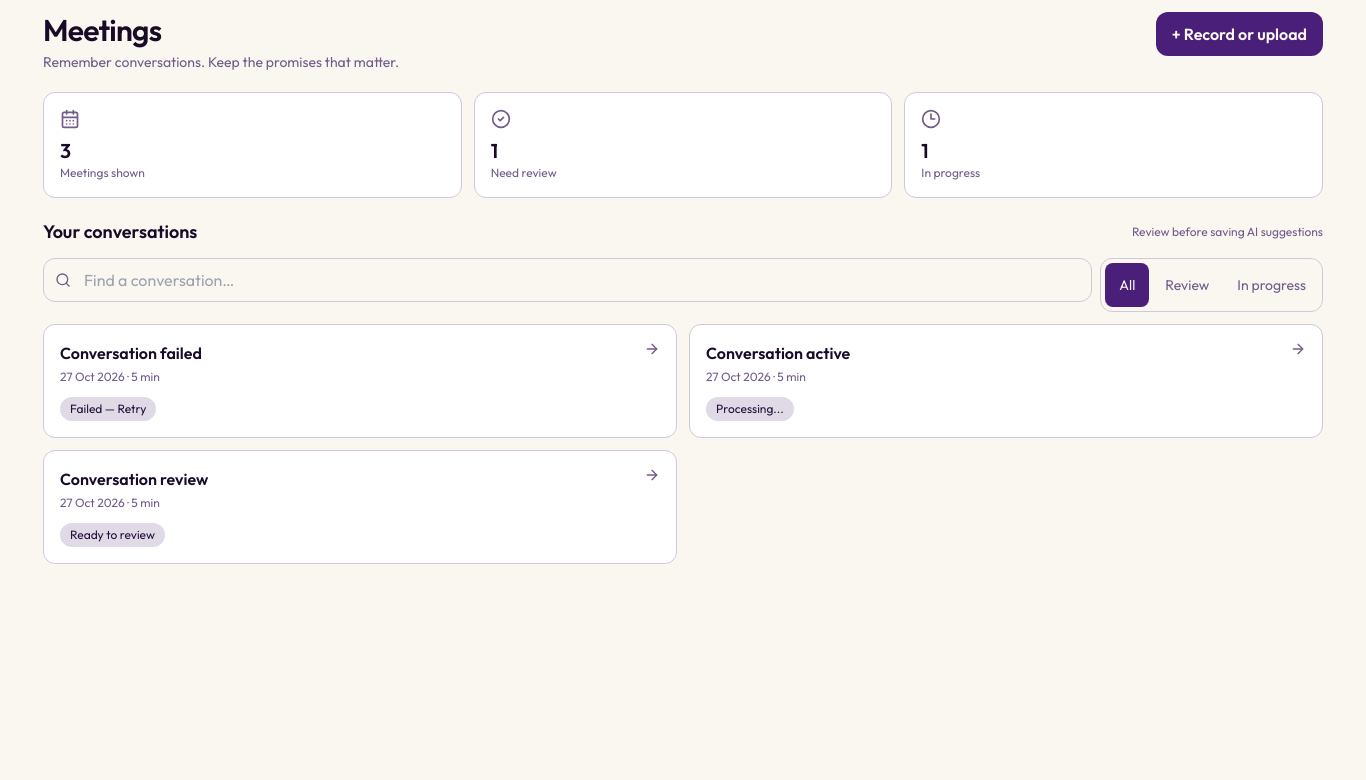
Scenario: meeting overview truth and filtering › separates failed recordings from active processing and finds reviewable meetings
The width and height of the screenshot is (1366, 780).
Click the button "In progress".
click(1272, 285)  # box [1225, 263, 1318, 307]
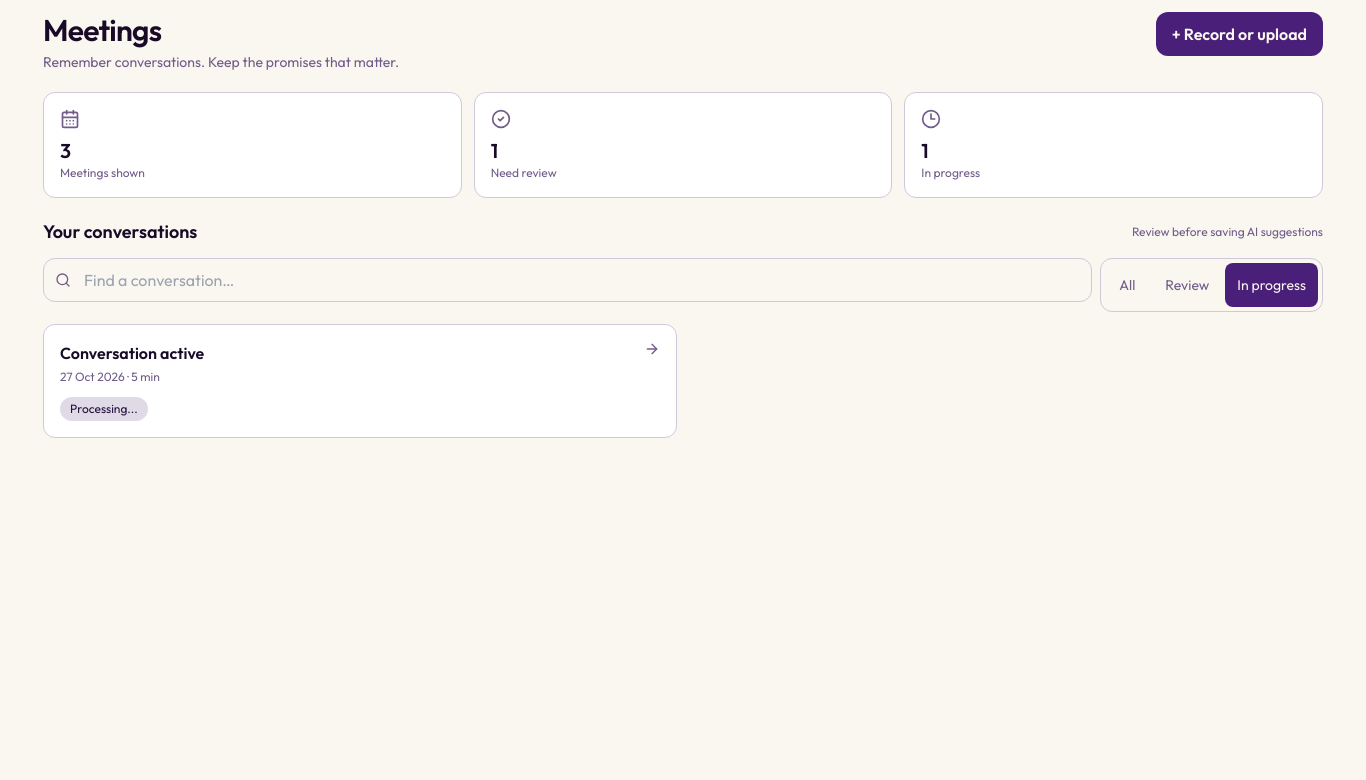
expect the link "Conversation active 27 Oct 2026 · 5 min Processing..." is shown: met, box [43, 324, 677, 438]
expect the link "Conversation failed" is gone: met
Click the button "Review".
click(1187, 285)  # box [1153, 263, 1221, 307]
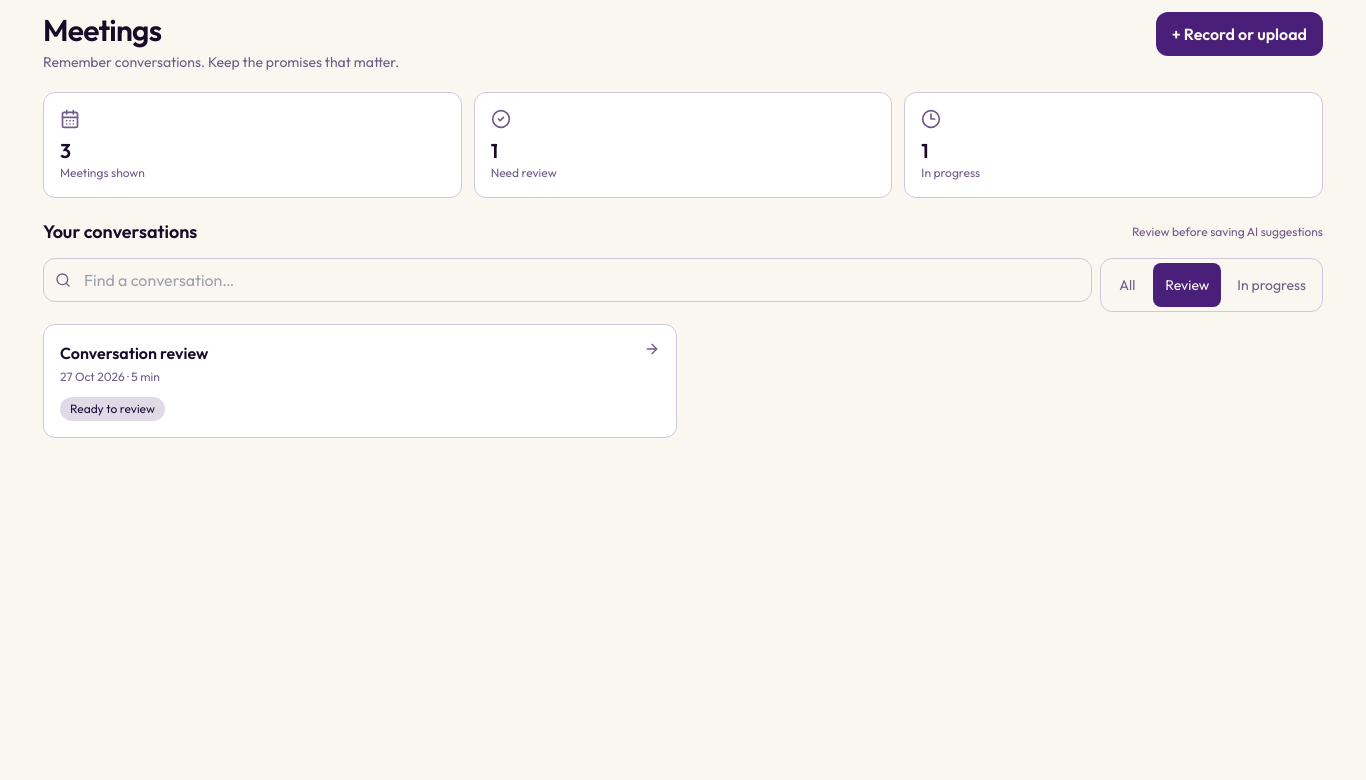
expect the link "Conversation review 27 Oct 2026 · 5 min Ready to review" is shown: met, box [43, 324, 677, 438]
Type "no match" into the search field named "Search meetings".
click(568, 280); type("no match")  # box [43, 258, 1092, 302]
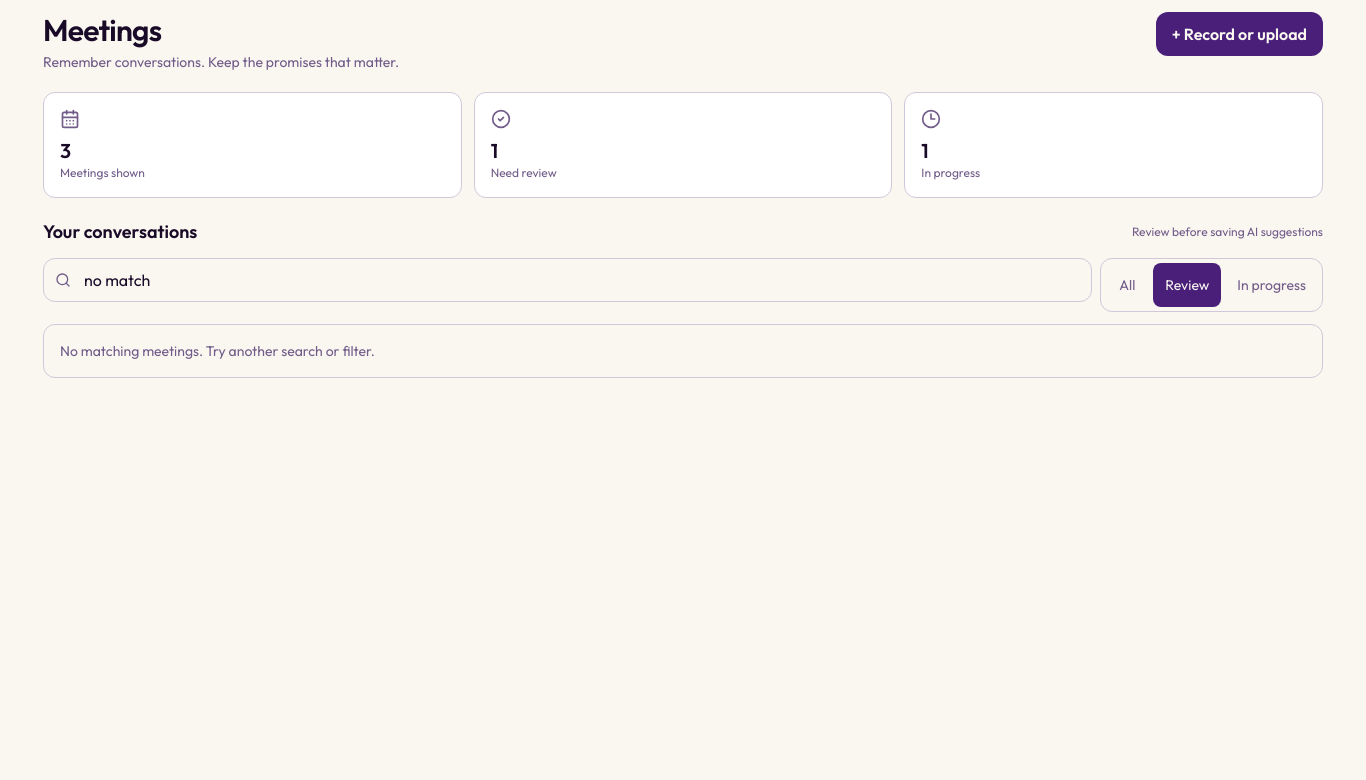
expect the text "No matching meetings. Try another search or filter." is shown: met, box [43, 324, 1323, 378]
